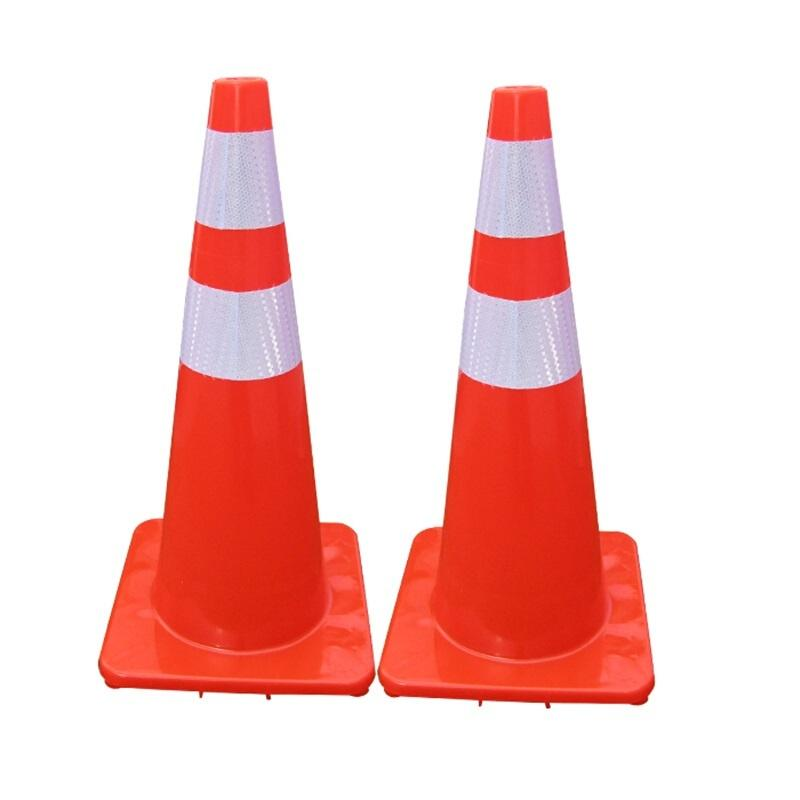cone_barrel: (378, 81, 657, 707), (97, 75, 374, 696)
